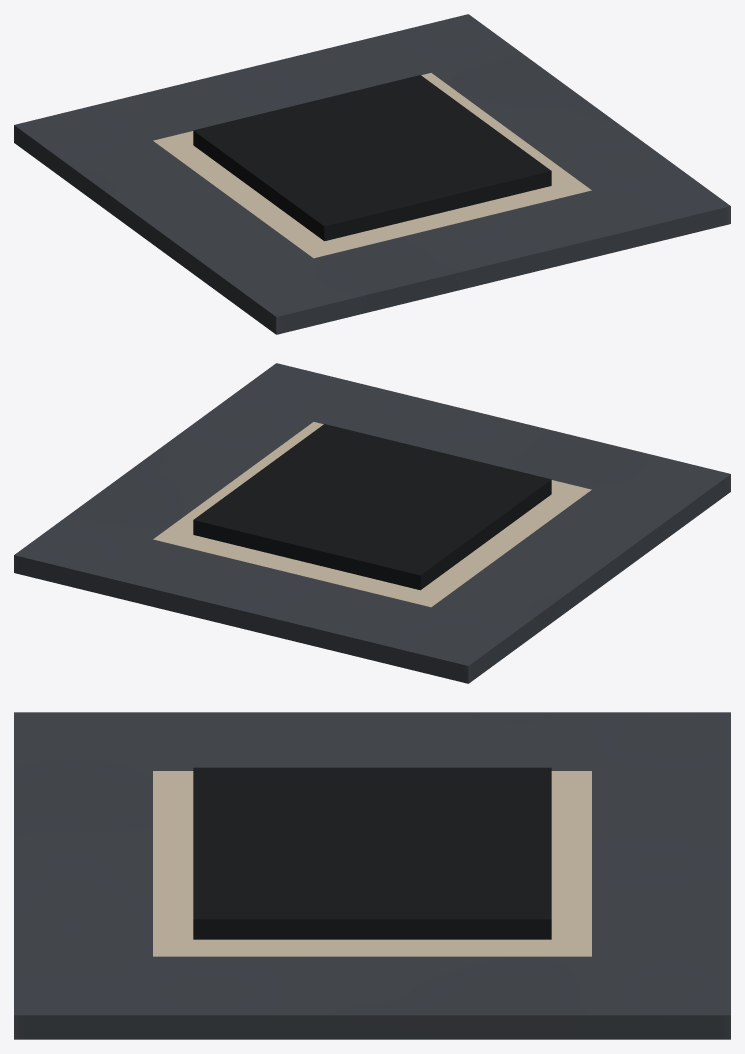
The model's file is deck_bottom.obj.
3 renders of one model, top to bottom at view 1: azimuth 30°, elevation 25°; view 2: azimuth 150°, elevation 25°; view 3: azimuth 270°, elevation 25°, orthographic. The views are drawn at different scales.
Parts seen in each view (by area): view 1: deck_bottom__deck_bottom_plate, deck_bottom__deck_bottom_throat, deck_bottom__deck_bottom_lining; view 2: deck_bottom__deck_bottom_plate, deck_bottom__deck_bottom_throat, deck_bottom__deck_bottom_lining; view 3: deck_bottom__deck_bottom_plate, deck_bottom__deck_bottom_throat, deck_bottom__deck_bottom_lining.
Part boxes in pixels (x1=…): deck_bottom__deck_bottom_plate: x1=14, y1=14, x2=730, y2=334; deck_bottom__deck_bottom_throat: x1=193, y1=75, x2=551, y2=241; deck_bottom__deck_bottom_lining: x1=153, y1=73, x2=591, y2=258; deck_bottom__deck_bottom_plate: x1=14, y1=363, x2=730, y2=683; deck_bottom__deck_bottom_throat: x1=193, y1=424, x2=551, y2=590; deck_bottom__deck_bottom_lining: x1=153, y1=422, x2=591, y2=607; deck_bottom__deck_bottom_plate: x1=14, y1=712, x2=730, y2=1039; deck_bottom__deck_bottom_throat: x1=193, y1=767, x2=551, y2=939; deck_bottom__deck_bottom_lining: x1=153, y1=771, x2=591, y2=956.
Size of the model in its own units: 1 by 0.0888 by 1.
